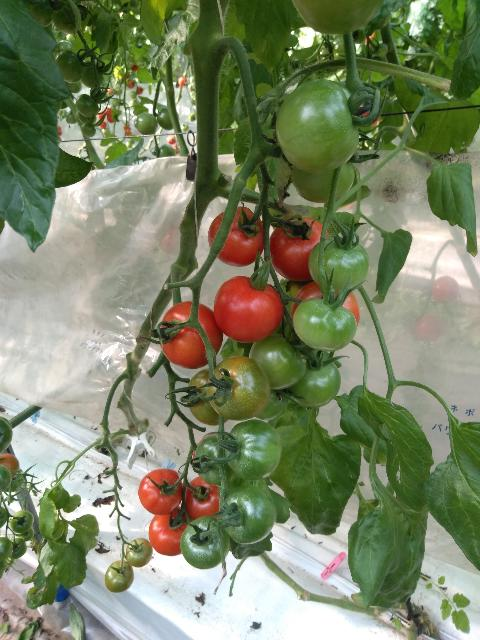l_fully_ripened: (213, 276, 284, 343), (159, 301, 223, 369), (269, 217, 332, 282), (207, 207, 264, 267), (291, 281, 360, 326), (148, 506, 194, 556), (138, 469, 183, 515), (182, 476, 224, 520)
l_green: (276, 78, 360, 172), (217, 485, 277, 545), (308, 236, 370, 293), (224, 419, 281, 481), (292, 298, 357, 352), (249, 331, 306, 390), (292, 0, 383, 35), (286, 355, 340, 408), (180, 516, 230, 570), (290, 162, 354, 204), (194, 434, 238, 486), (254, 389, 287, 421), (104, 560, 134, 593), (56, 50, 84, 83), (53, 2, 81, 35), (125, 538, 153, 568), (80, 60, 104, 89), (30, 0, 54, 28), (9, 510, 34, 533), (76, 94, 99, 118), (157, 107, 180, 130), (136, 113, 158, 135), (3, 469, 24, 492), (0, 418, 13, 453), (9, 537, 27, 559), (0, 464, 12, 492), (0, 537, 13, 560), (158, 143, 176, 158), (81, 123, 96, 138), (0, 506, 8, 529), (66, 113, 77, 124)
l_half_ripened: (206, 356, 271, 421), (187, 366, 228, 426), (0, 453, 20, 480)
